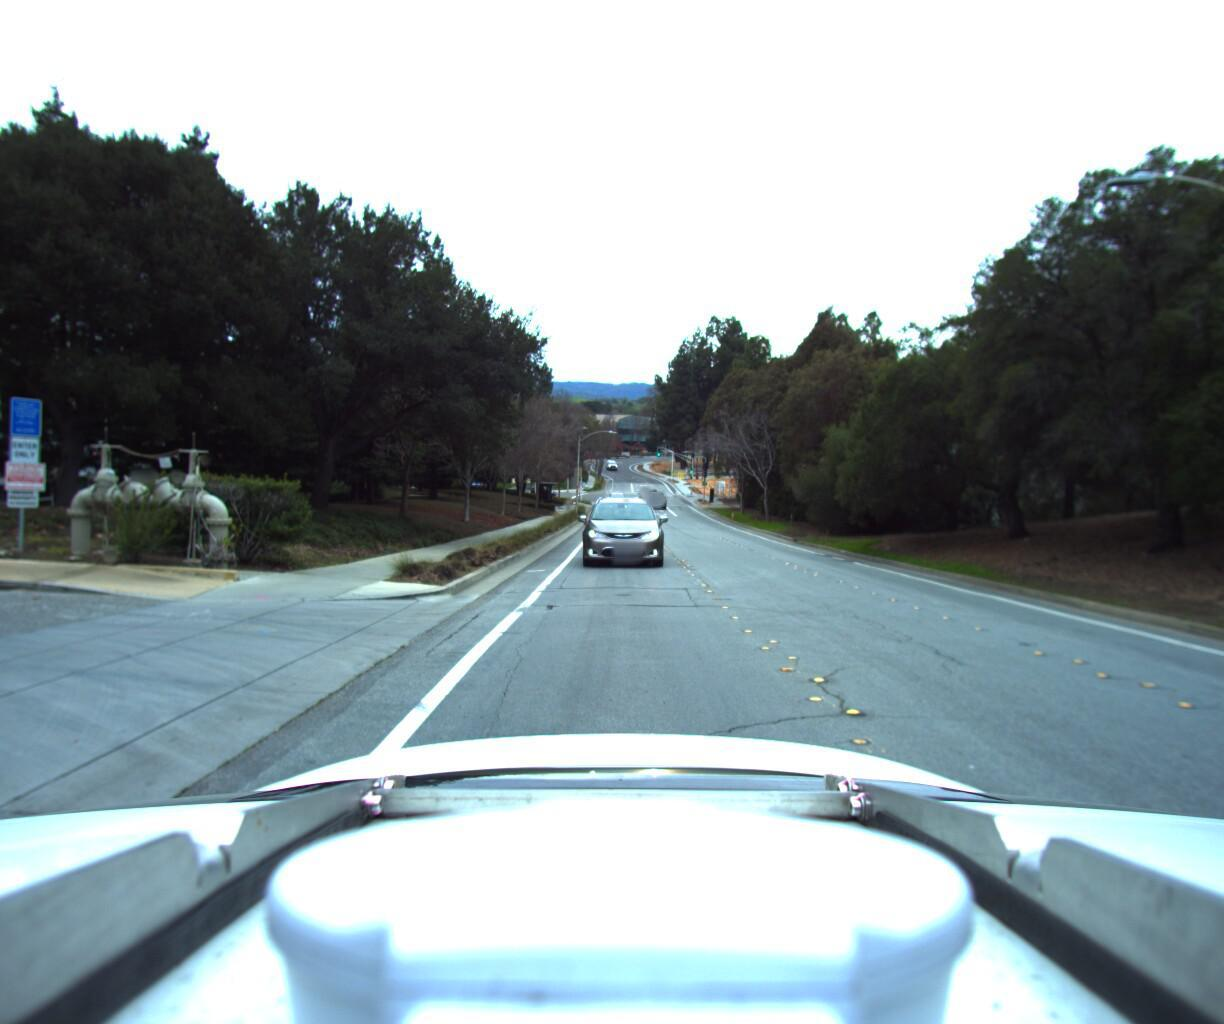car: (580, 480, 669, 576), (644, 482, 665, 502)
